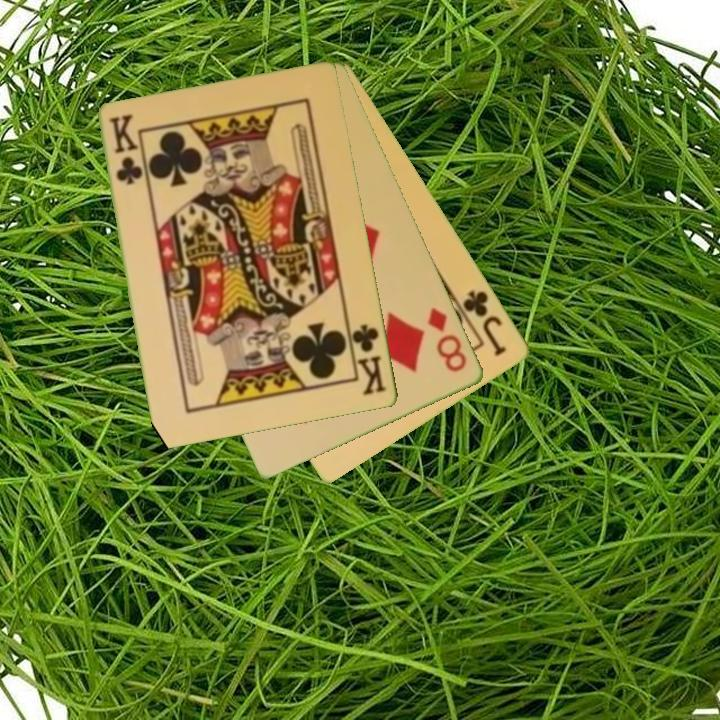8d: (424, 304, 470, 376)
Jc: (459, 287, 510, 359)
Kc: (345, 318, 390, 399), (105, 111, 144, 188)
